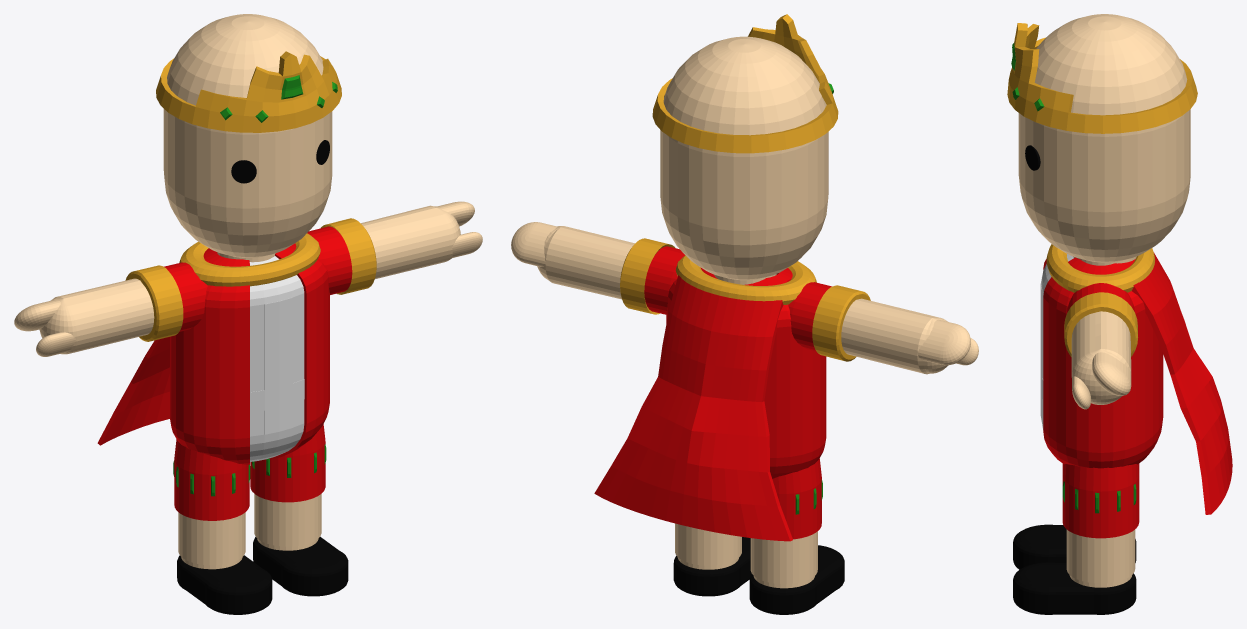
File: kRAL.fbx
The picture shows the model from 3 angles, left to right: view 1: azimuth 30°, elevation 25°; view 2: azimuth 150°, elevation 25°; view 3: azimuth 270°, elevation 25°; orthographic projection. The views are drawn at different scales.
Visible parts, largest first — view 1: Kral; view 2: Kral; view 3: Kral.
Boxes of the visible parts, x1,y1,x2,y2 form: Kral: (14, 14, 482, 614); Kral: (511, 14, 978, 614); Kral: (1007, 14, 1232, 614).
Size of the model in its own units: 624 by 721 by 262.
